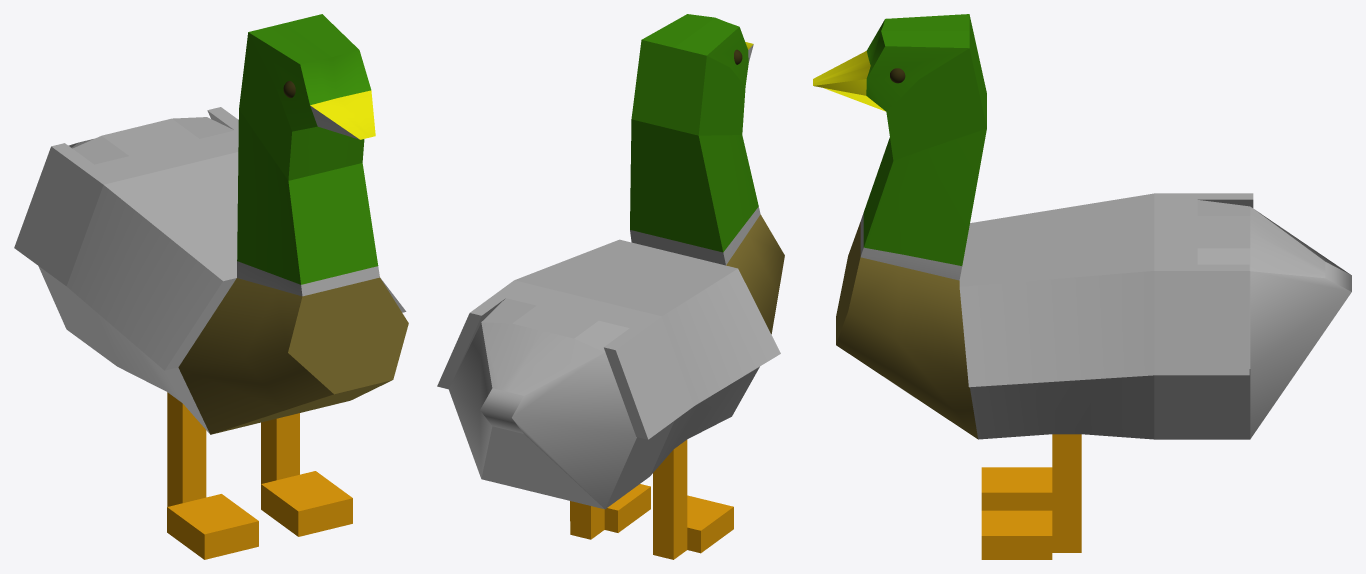
Rendered from standing-duck.fbx.
The picture shows the model from 3 angles, left to right: view 1: azimuth 30°, elevation 25°; view 2: azimuth 150°, elevation 25°; view 3: azimuth 270°, elevation 25°; orthographic projection. The views are drawn at different scales.
Visible parts, largest first — view 1: pCube1; view 2: pCube1; view 3: pCube1.
Part boxes in pixels (x1,y1,x2,y2): pCube1: [14, 14, 408, 559]; pCube1: [437, 14, 784, 559]; pCube1: [813, 14, 1351, 559].
Size of the model in its own units: 1.5 by 3.1 by 3.06.
